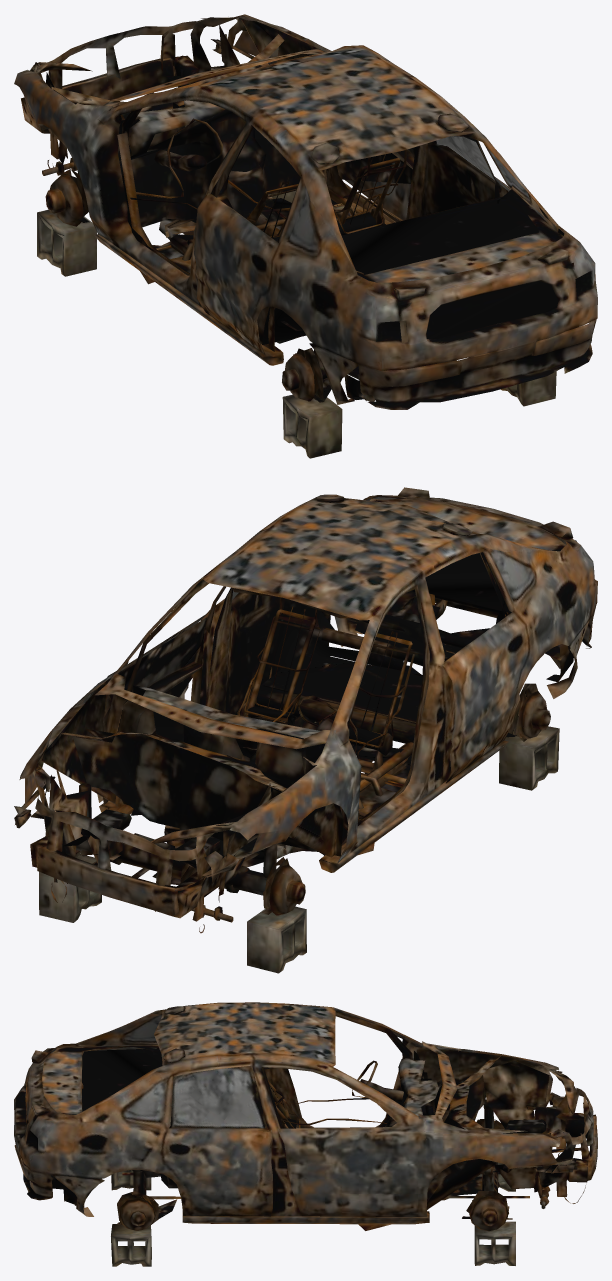
File: burned_car_wreck.glb
The picture shows the model from 3 angles, top to bottom: view 1: azimuth 30°, elevation 25°; view 2: azimuth 150°, elevation 25°; view 3: azimuth 270°, elevation 25°; orthographic projection. The views are drawn at different scales.
Visible parts, largest first — view 1: geometry_0; view 2: geometry_0; view 3: geometry_0.
Part boxes in pixels (left/top/right/bottom): geometry_0: left=14, top=14, right=597, bottom=458; geometry_0: left=14, top=487, right=597, bottom=973; geometry_0: left=14, top=1002, right=597, bottom=1266.
Bounding box in the file's own units: 1.68 × 1.63 × 4.4.
Materials: 1 (1 with a texture image).
